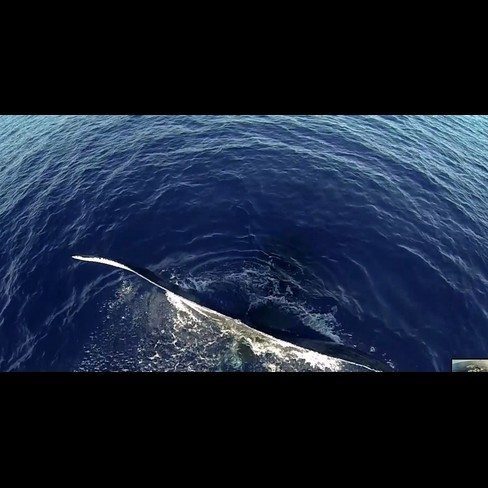hump: (66, 246, 389, 373)
